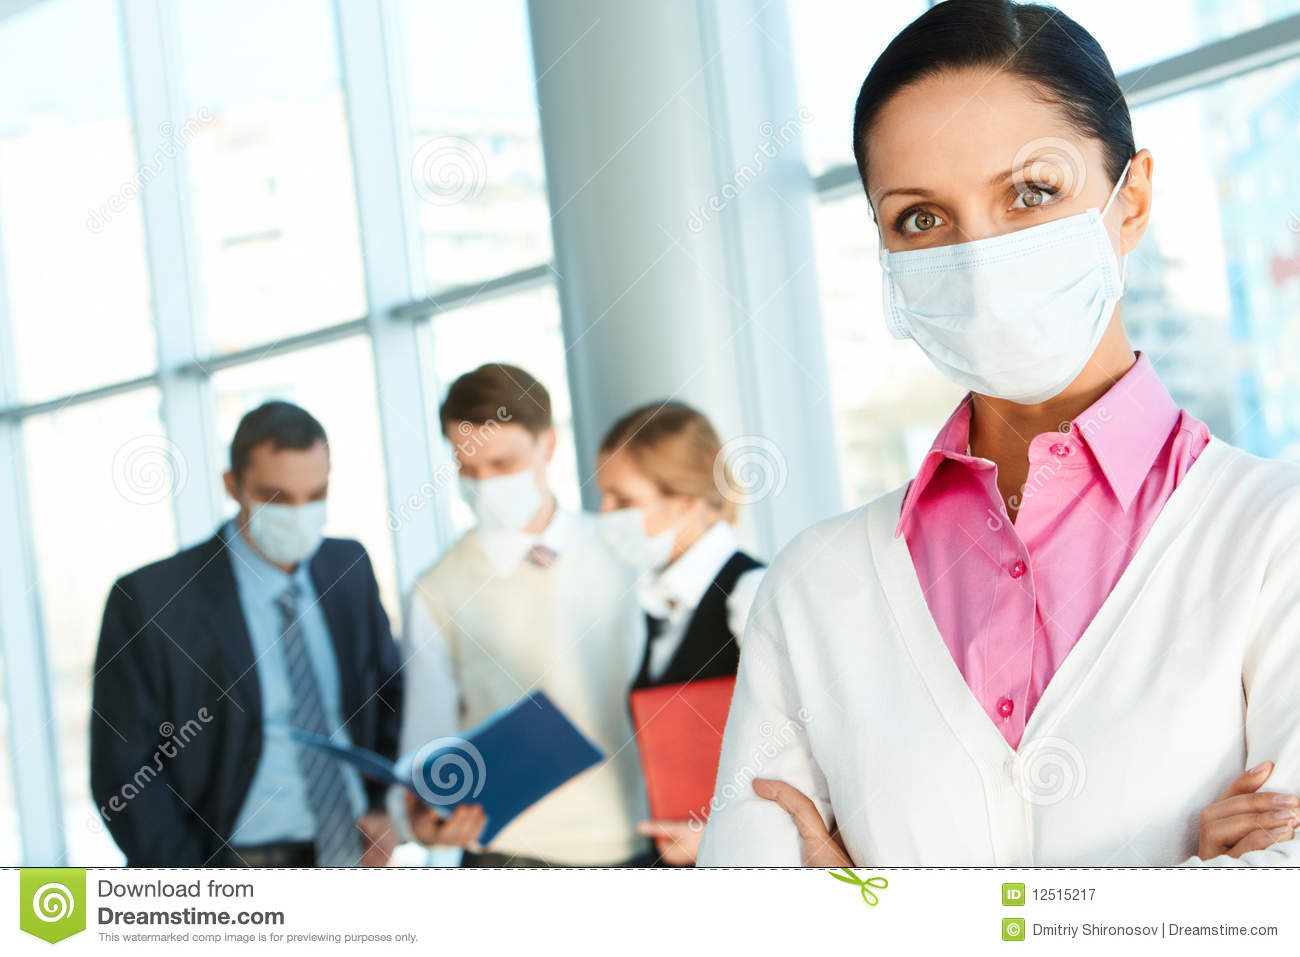mask: (880, 229, 1121, 403)
